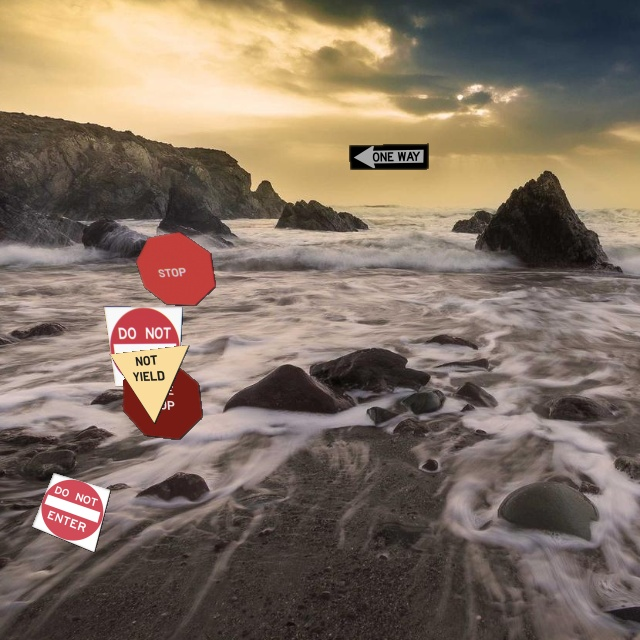DO_NOT_ENTER: (103, 306, 183, 387), (31, 472, 111, 553)
FAKE_STOP: (122, 361, 203, 440)
NOT_YIELD: (109, 344, 190, 424)
ONE_WAY_ left: (348, 143, 429, 170)
STOP: (135, 231, 216, 306)
